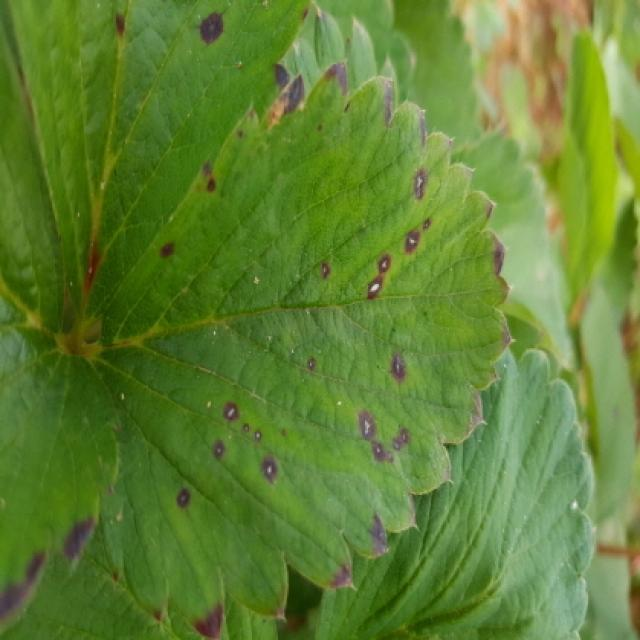Leaf Spot: (83, 59, 516, 638), (6, 0, 312, 334)
